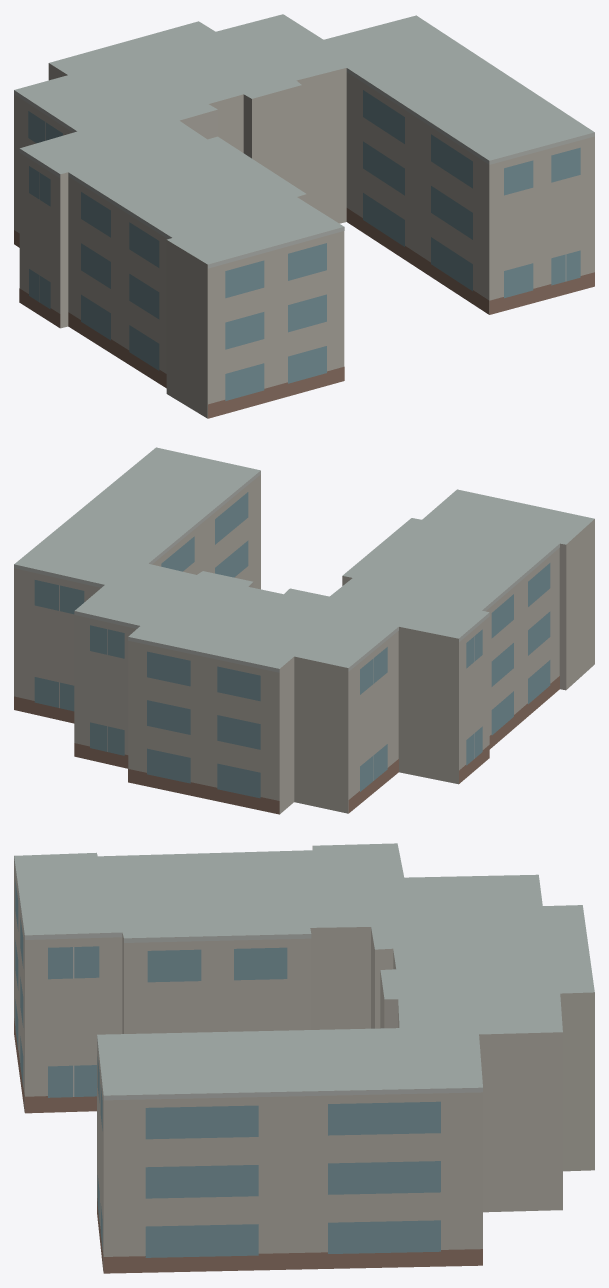
The model's file is survey-upis-32999647.glb.
The picture shows the model from 3 angles, top to bottom: view 1: azimuth 30°, elevation 25°; view 2: azimuth 150°, elevation 25°; view 3: azimuth 270°, elevation 25°; orthographic projection. The views are drawn at different scales.
Visible parts, largest first — view 1: survey-upis-32999647.tmp; view 2: survey-upis-32999647.tmp; view 3: survey-upis-32999647.tmp.
Boxes of the visible parts, box(x1,y1,x2,y2) form: survey-upis-32999647.tmp: box(14, 14, 594, 418); survey-upis-32999647.tmp: box(14, 447, 594, 814); survey-upis-32999647.tmp: box(14, 843, 594, 1273).
Bounding box in the file's own units: 27.83 × 9.15 × 27.08.
